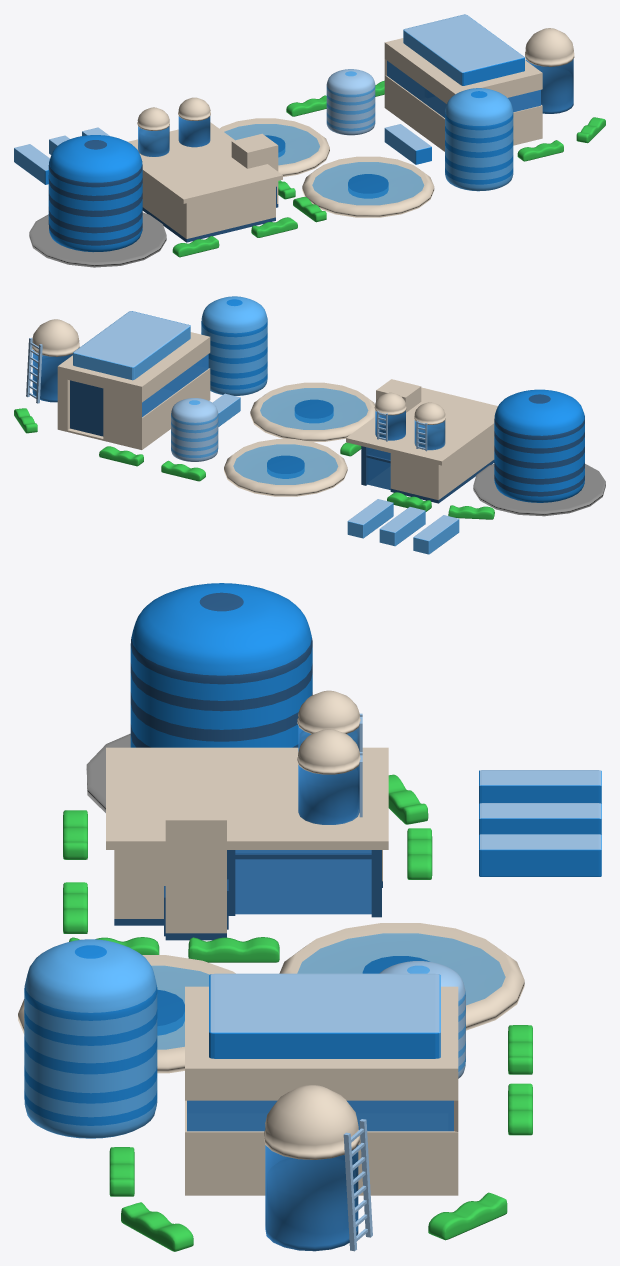
The model's file is MiniWorld_westernTreatmentPlan.glb.
3 views of the same model, one above another, from view 1: azimuth 30°, elevation 25°; view 2: azimuth 150°, elevation 25°; view 3: azimuth 270°, elevation 25° (orthographic). The views are drawn at different scales.
Visible parts, largest first — view 1: waterTank, building_side, waterTank.003, pool02, roof, building_side_roof, wall, pool01, base_waterTank, waterTower03, waterTank.002, waterTower01 (+11 smaller); view 2: building_side, waterTank, pool02, pool01, waterTank.003, building_side_roof, roof, wall, waterTank.002, base_waterTank, waterTower03, waterTower02 (+14 smaller); view 3: building_side, waterTank, waterTank.003, roof, building_side_roof, waterTower03, pool01, sideTower, windows01, waterTower01, block01, pool02 (+18 smaller).
Part boxes in pixels (<box>): waterTank: <box>48,135,142,252</box>; building_side: <box>384,38,542,151</box>; waterTank.003: <box>445,88,513,191</box>; pool02: <box>302,156,434,217</box>; roof: <box>128,122,282,203</box>; building_side_roof: <box>403,14,524,85</box>; wall: <box>142,174,275,242</box>; pool01: <box>219,118,329,176</box>; base_waterTank: <box>29,212,166,267</box>; waterTower03: <box>525,28,574,113</box>; waterTank.002: <box>326,69,375,135</box>; waterTower01: <box>178,97,210,147</box>; building_side: <box>57,332,210,449</box>; waterTank: <box>494,389,584,502</box>; pool02: <box>250,382,375,441</box>; pool01: <box>224,439,347,496</box>; waterTank.003: <box>201,296,267,395</box>; building_side_roof: <box>73,311,190,380</box>; roof: <box>346,387,497,465</box>; wall: <box>390,427,494,503</box>; waterTank.002: <box>171,398,218,461</box>; base_waterTank: <box>473,464,605,516</box>; waterTower03: <box>32,319,79,402</box>; waterTower02: <box>414,402,445,450</box>; building_side: <box>185,986,458,1195</box>; waterTank: <box>130,583,312,747</box>; waterTank.003: <box>24,939,157,1138</box>; roof: <box>106,747,388,849</box>; building_side_roof: <box>209,973,440,1058</box>; waterTower03: <box>264,1085,359,1251</box>; pool01: <box>279,923,524,1030</box>; sideTower: <box>165,791,226,940</box>; windows01: <box>235,850,371,914</box>; waterTower01: <box>297,729,360,824</box>; block01: <box>479,834,601,876</box>; pool02: <box>18,955,235,1073</box>.
Bounding box in the file's own units: 40.42 × 6.53 × 19.
